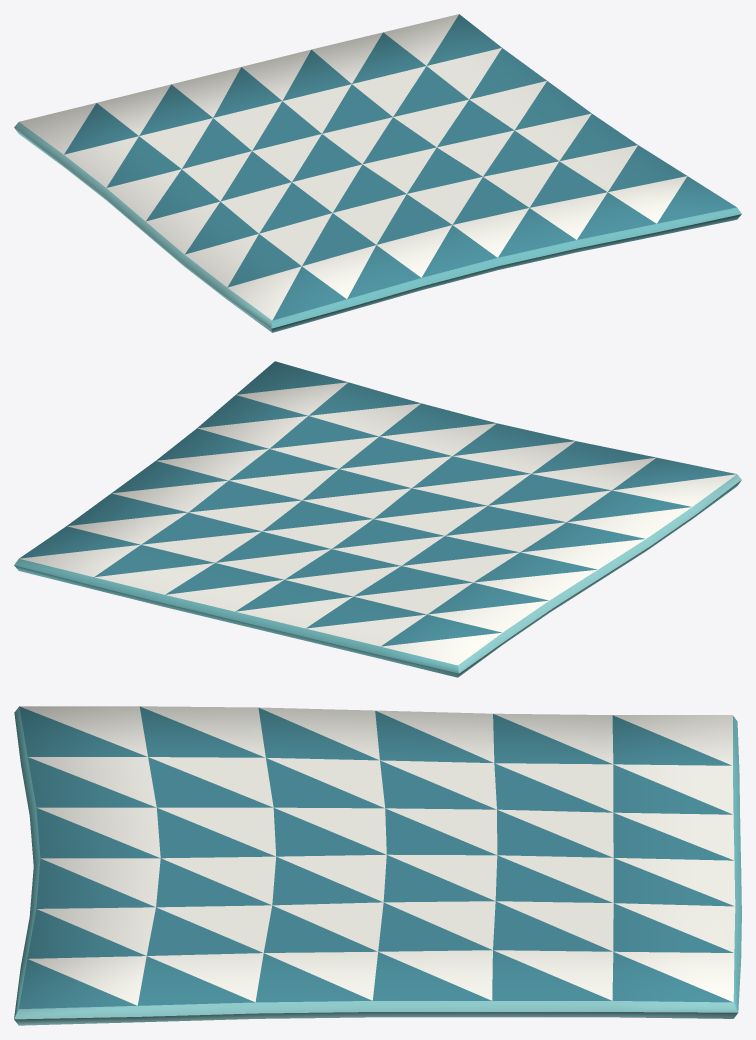
Rendered from itch_tiny_pleasant_picnic_picnic_blanket_blue.glb.
The picture shows the model from 3 angles, top to bottom: view 1: azimuth 30°, elevation 25°; view 2: azimuth 150°, elevation 25°; view 3: azimuth 270°, elevation 25°; orthographic projection. The views are drawn at different scales.
Visible parts, largest first — view 1: picnic_blanket_blue; view 2: picnic_blanket_blue; view 3: picnic_blanket_blue.
Part boxes in pixels (x1,y1,x2,y2): picnic_blanket_blue: [14, 14, 741, 332]; picnic_blanket_blue: [14, 361, 741, 677]; picnic_blanket_blue: [14, 706, 741, 1025].
Size of the model in its own units: 0.96 by 0.024 by 0.96.
